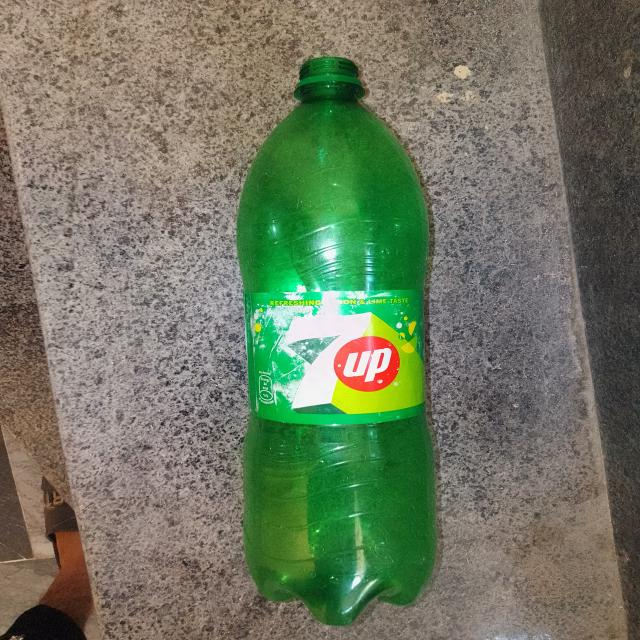bottle: (224, 43, 467, 628)
label: (240, 277, 441, 438)
